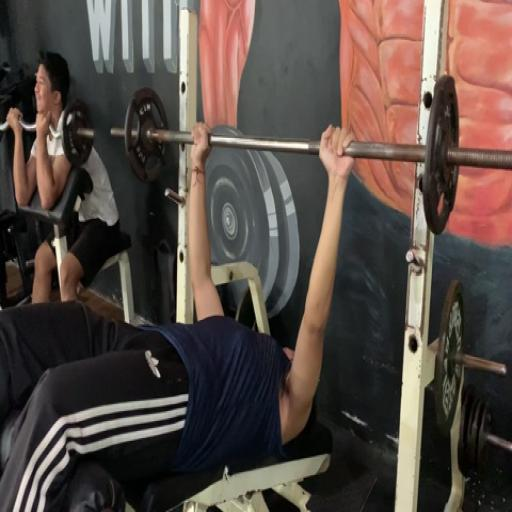exercise: (0, 119, 358, 510), (3, 48, 126, 306)
